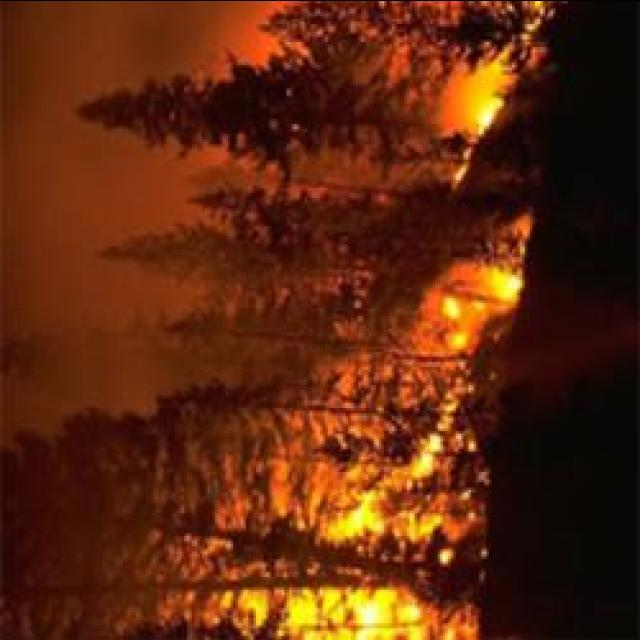fire: (443, 266, 522, 350), (353, 598, 381, 636)
